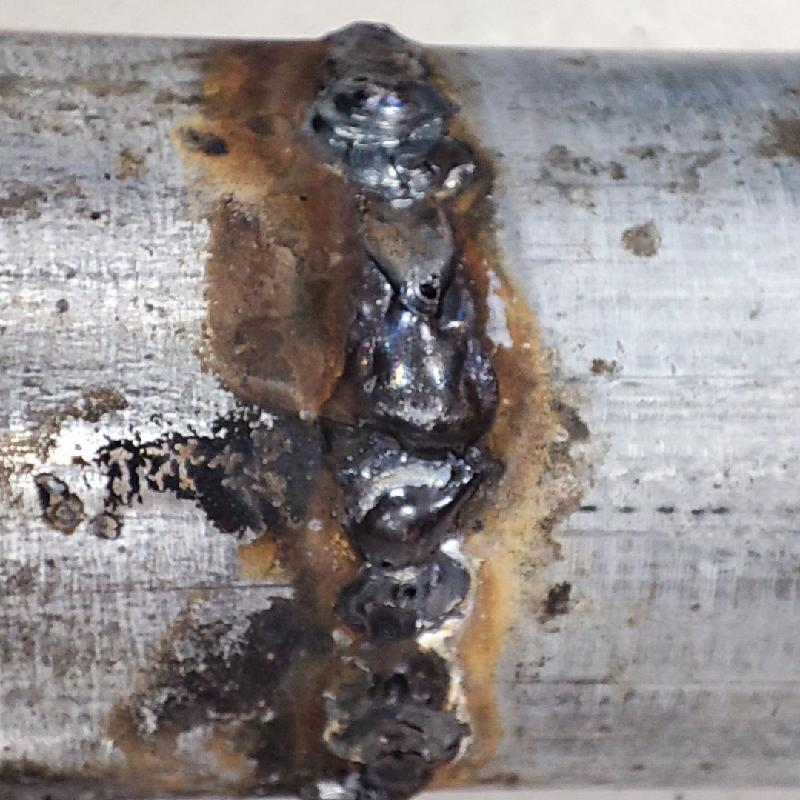Not_fully_soldered: (330, 569, 480, 766), (342, 145, 466, 317)
Surface_pores: (398, 263, 453, 310), (365, 545, 407, 576)
Weld: (323, 315, 495, 570)
wrong_size: (307, 16, 453, 150)
